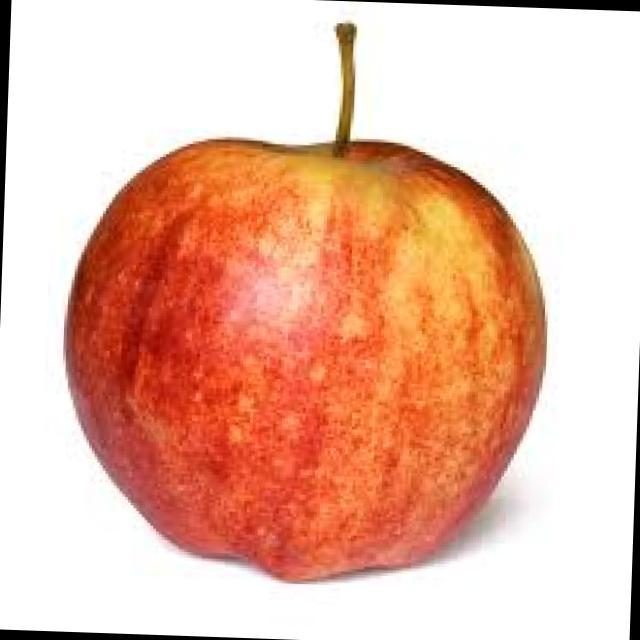Apple: (43, 8, 583, 600)
